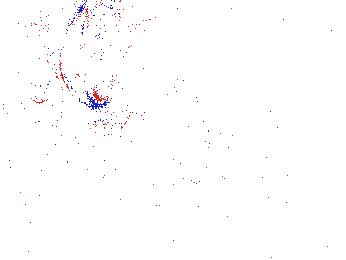moon jellyfish: (91, 23, 191, 139), (58, 1, 125, 125), (1, 7, 68, 104)
